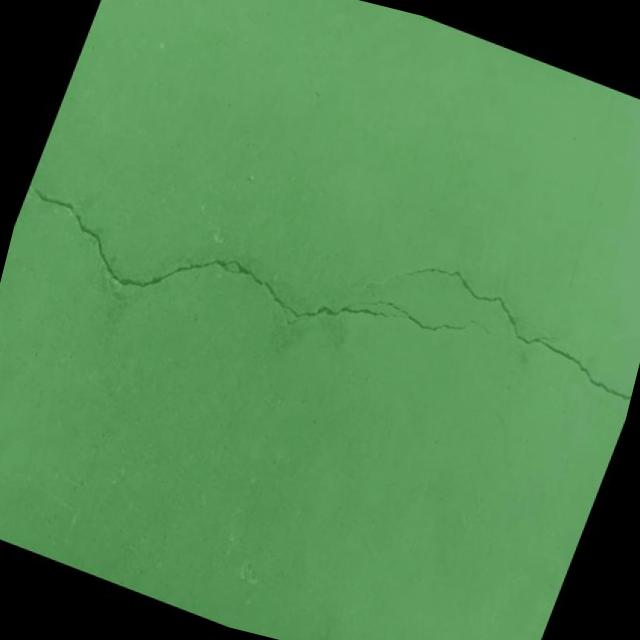crack: (0, 154, 506, 419), (373, 249, 640, 403)
